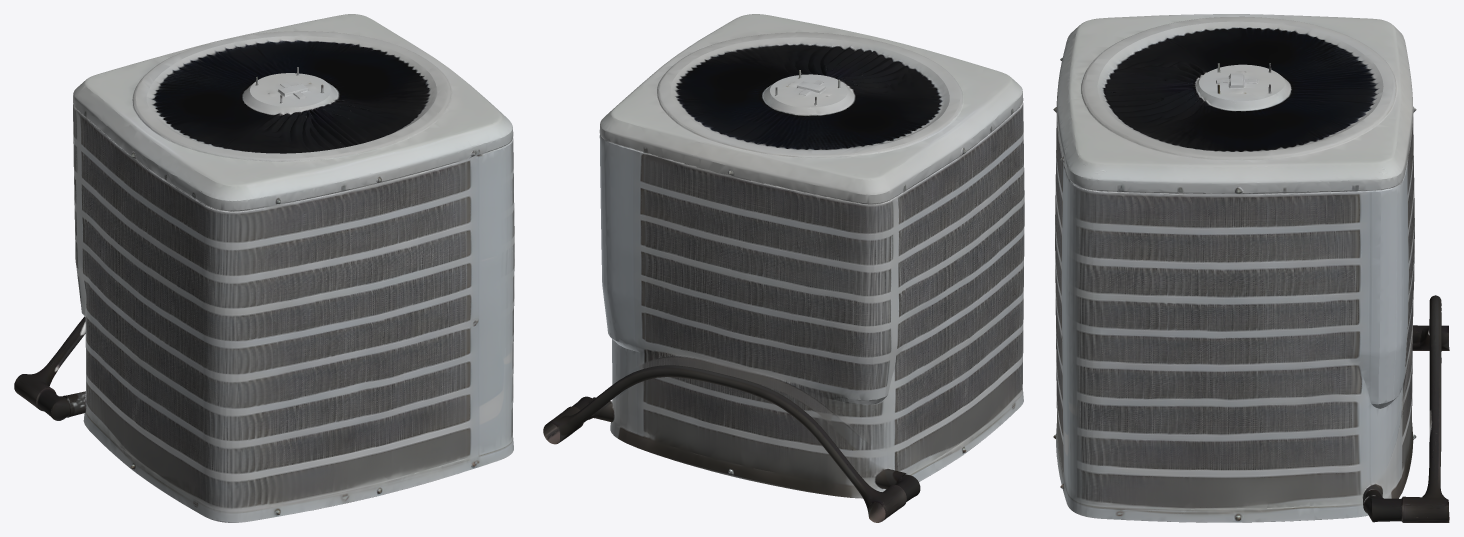
The model's file is outdoor_central_ac_air_conditioner_unit.glb.
3 views of the same model, side by side, from view 1: azimuth 30°, elevation 25°; view 2: azimuth 150°, elevation 25°; view 3: azimuth 270°, elevation 25° (orthographic). The views are drawn at different scales.
Visible parts, largest first — view 1: Object_3; view 2: Object_3; view 3: Object_3.
Part boxes in pixels (bbox=[...]): Object_3: bbox=[14, 14, 514, 522]; Object_3: bbox=[543, 14, 1024, 522]; Object_3: bbox=[1053, 14, 1449, 522].
Bounding box in the file's own units: 1.84 × 1.76 × 1.69.
1 material, 1 textured.
